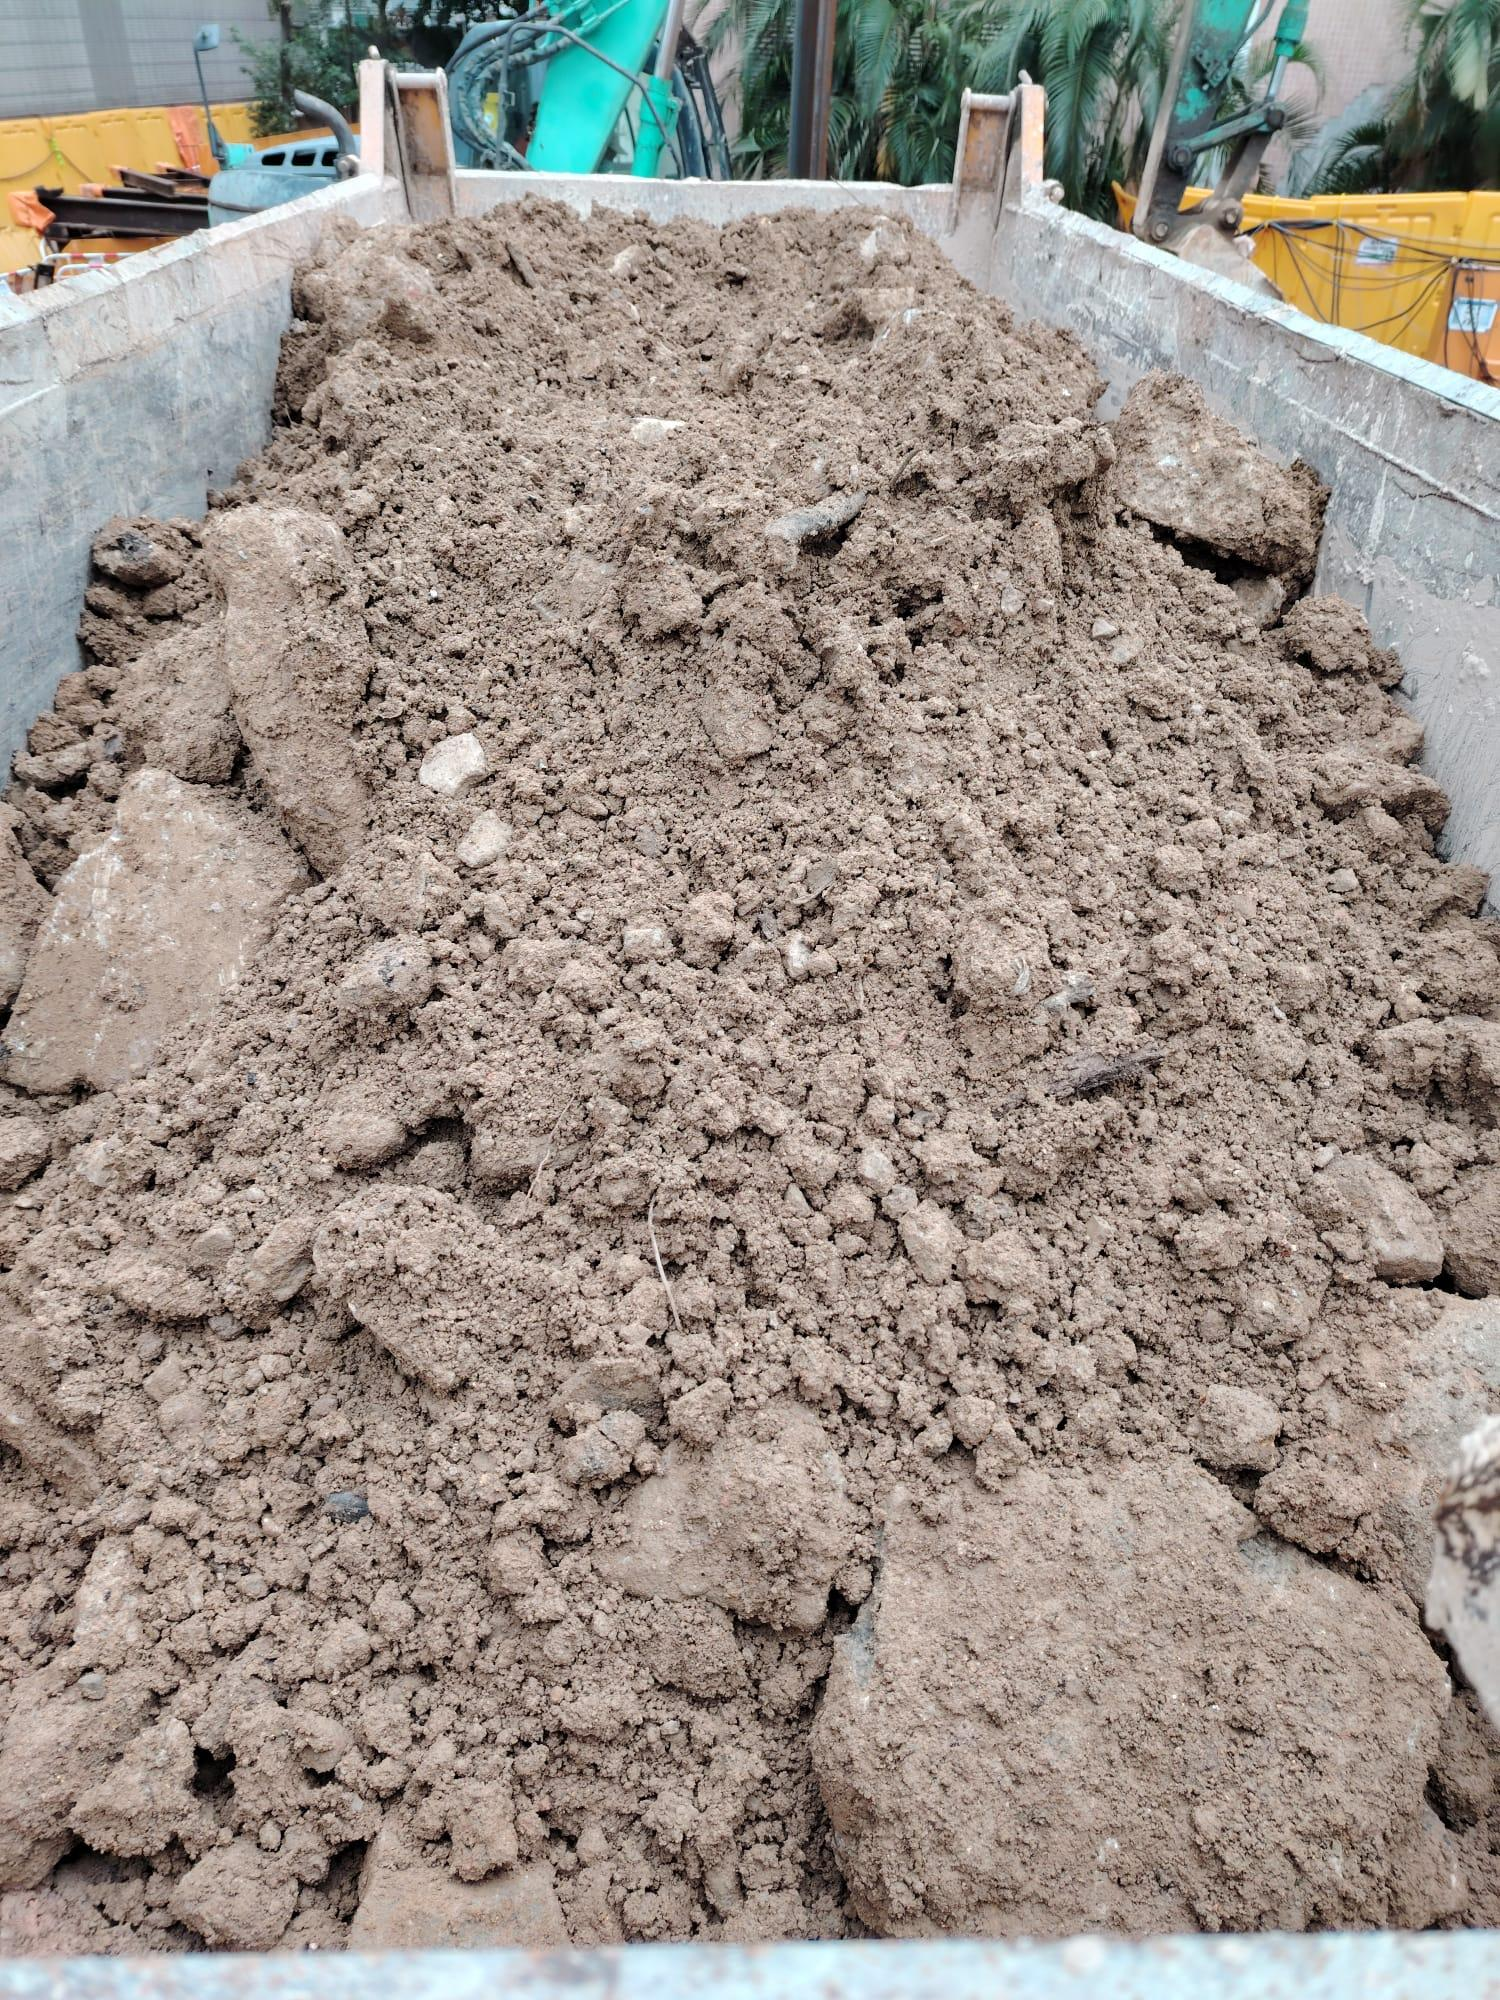wet: (3, 220, 1494, 1937)
